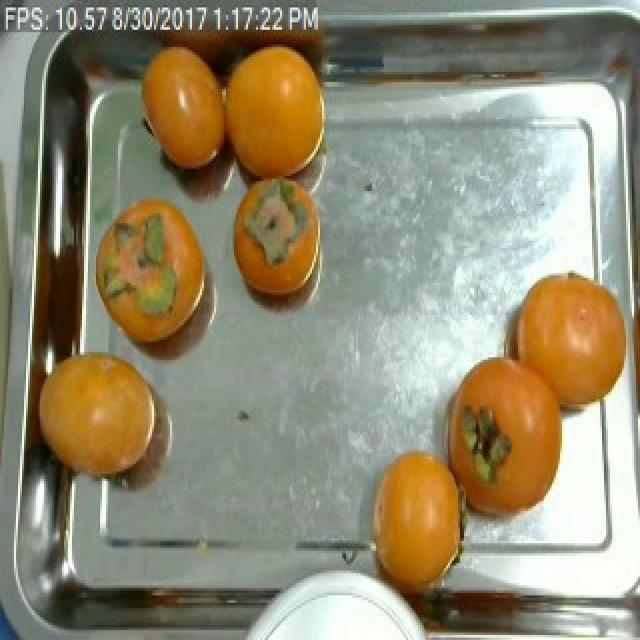Fruit: (28, 330, 192, 506), (436, 337, 578, 536), (92, 176, 222, 377), (350, 429, 480, 615), (500, 261, 630, 439), (214, 32, 328, 196), (128, 32, 244, 184), (220, 166, 324, 328)
